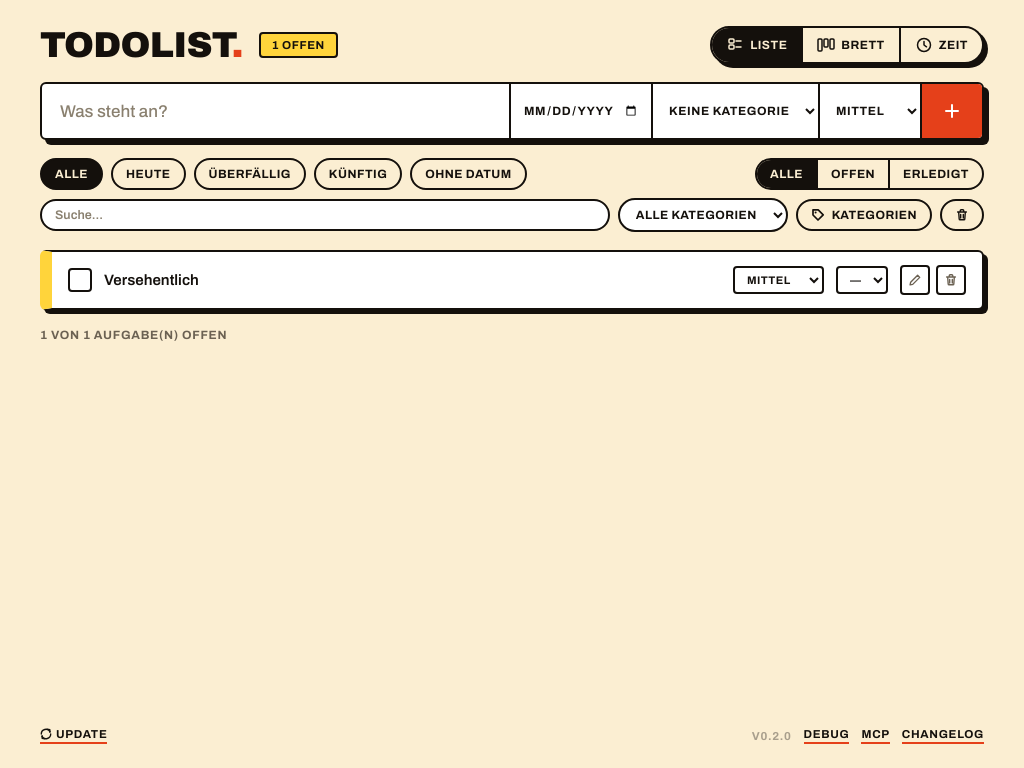
die Rückgängig-Leiste › behaelt die Leiste, wenn das Zurueckholen fehlschlaegt
expect the text "Versehentlich" is shown: met, box x1=104 y1=272 x2=199 y2=288
Click the button named "Löschen": (951, 280) x1=936 y1=265 x2=966 y2=295
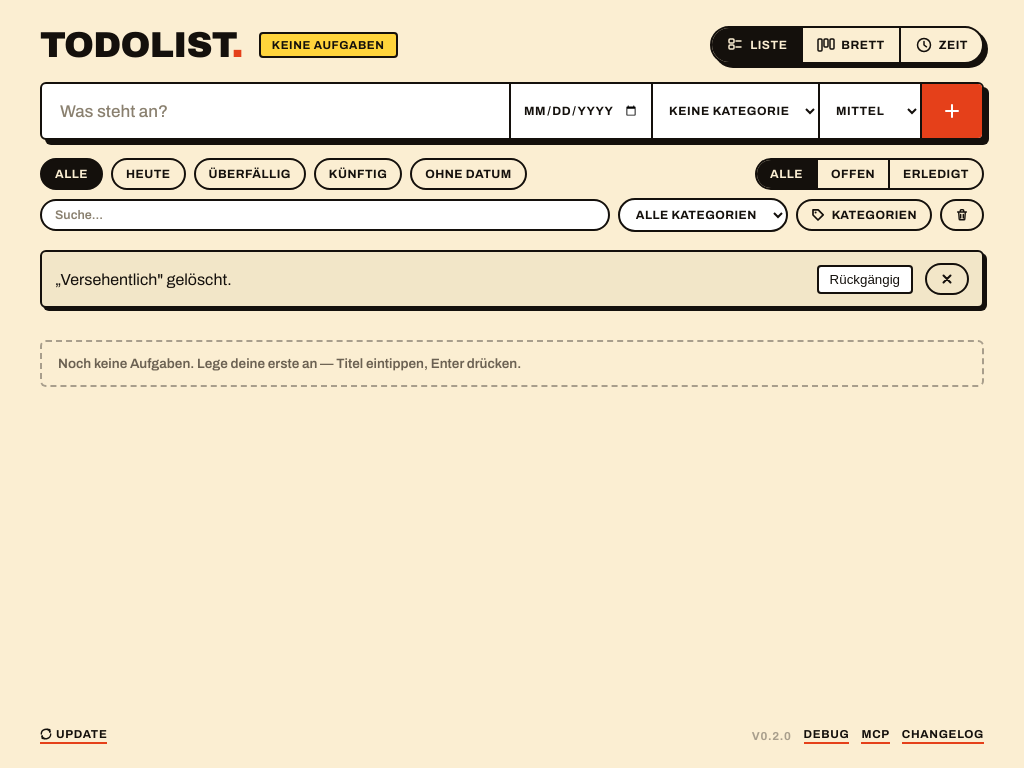
expect the text "„Versehentlich\" gelöscht." is shown: met, box x1=55 y1=270 x2=232 y2=288
Click the button "Rückgängig": (865, 279) x1=817 y1=264 x2=913 y2=294
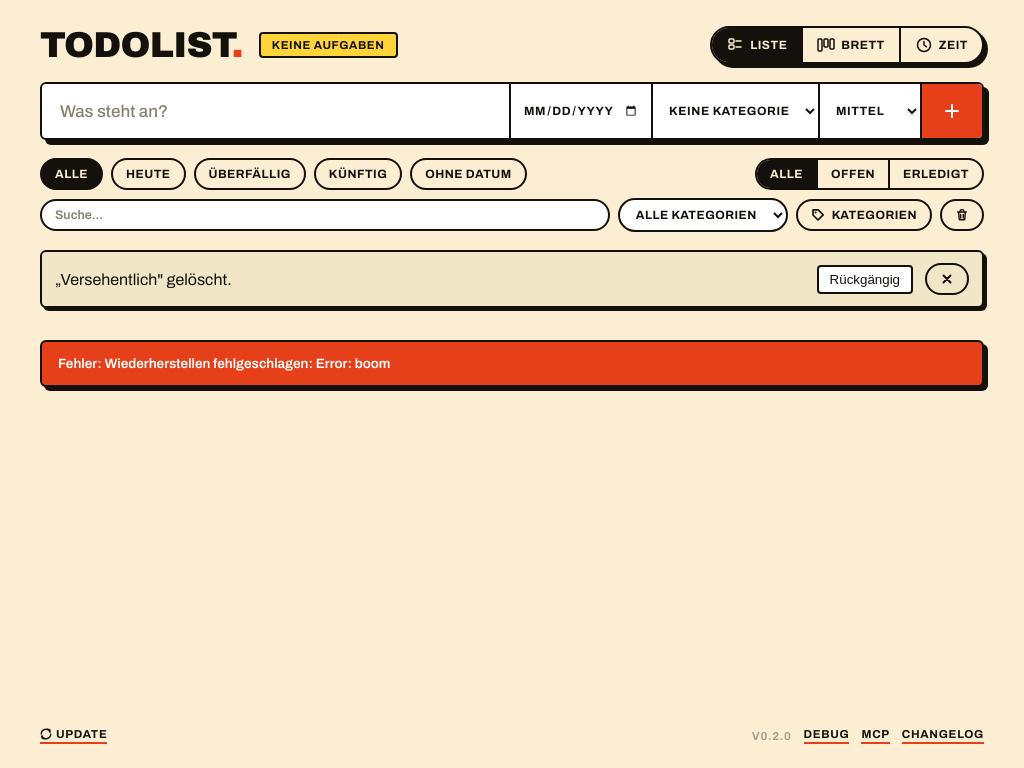
expect the button "Rückgängig" is shown: met, box x1=817 y1=264 x2=913 y2=294
expect the text "Fehler: Wiederherstellen fehlgeschlagen: Error: boom" is shown: met, box x1=40 y1=340 x2=984 y2=387
